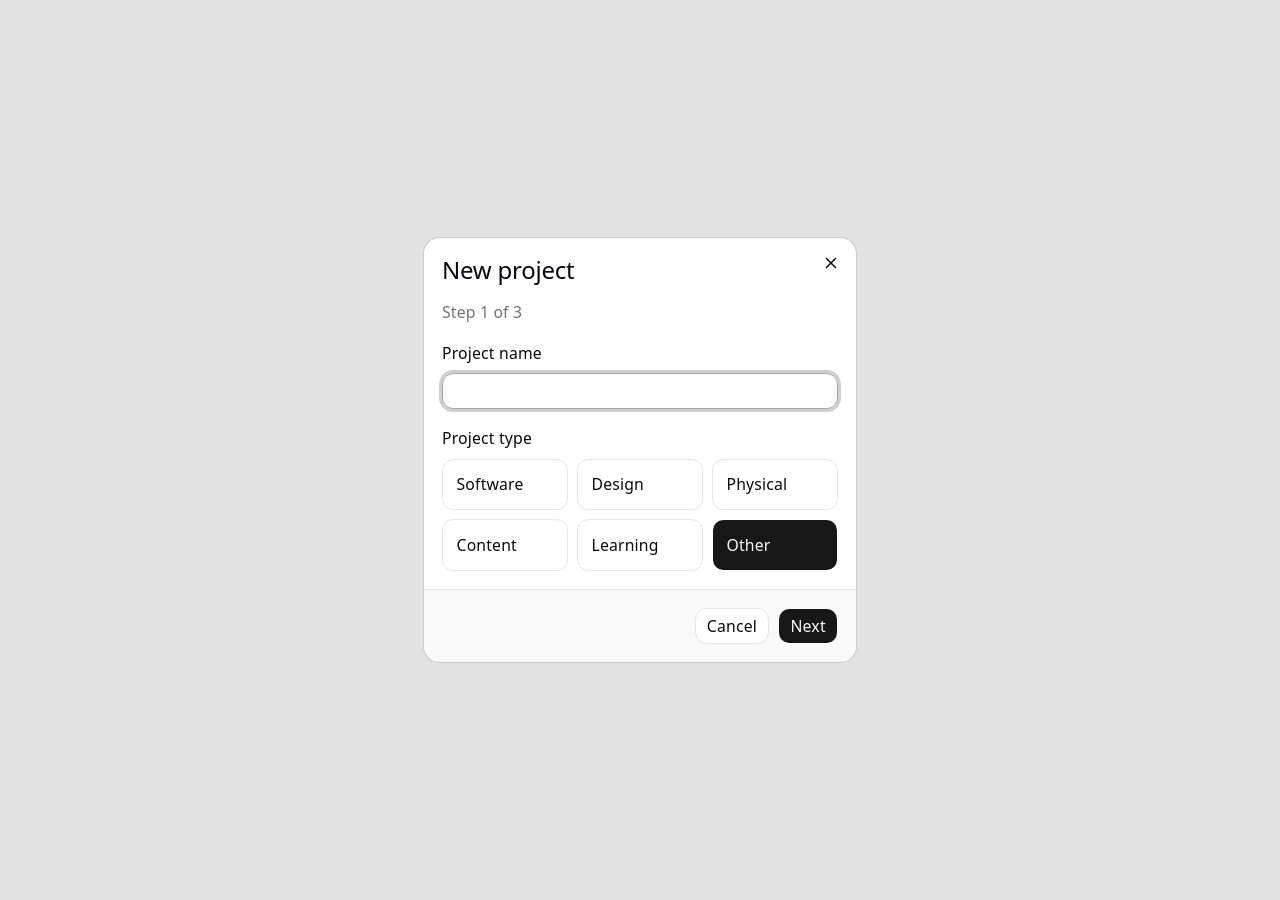
CreateProjectModal › supports back navigation between steps
The width and height of the screenshot is (1280, 900).
Type "Learning Plan" into the field labelled "Project name" at (640, 391), box [442,373,838,409]
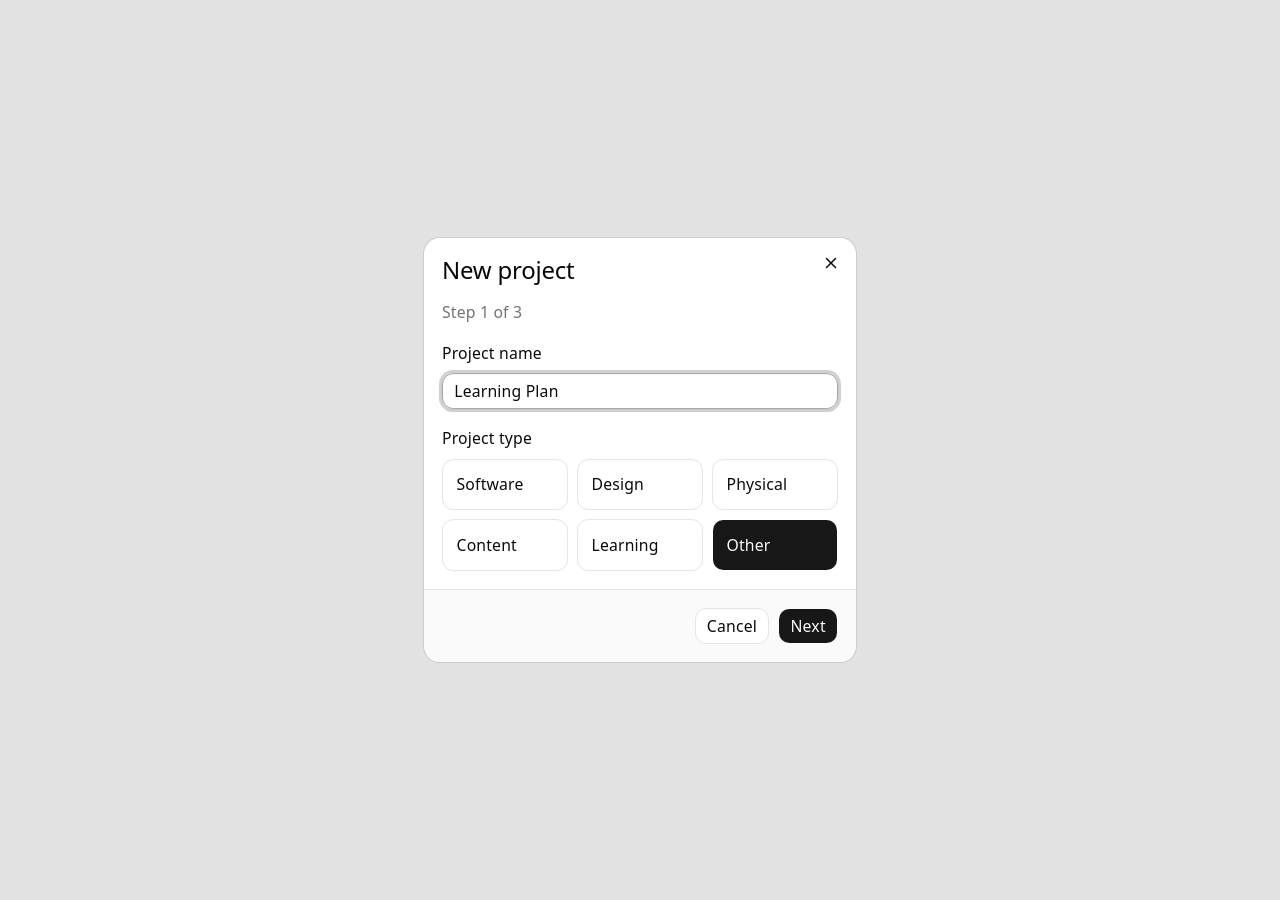
Click the button "Learning" at (640, 545), box [577,519,703,571]
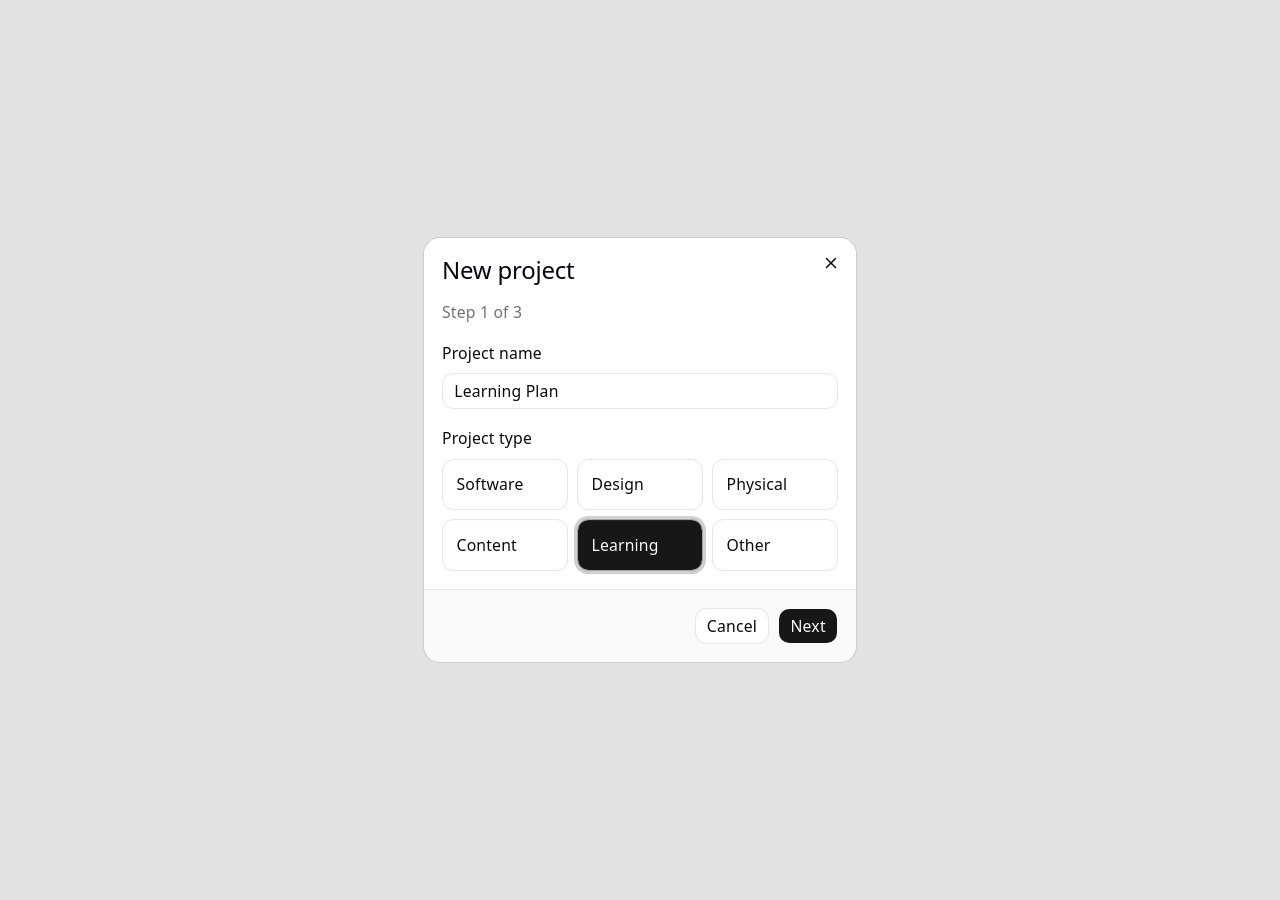
Click the button "Next" at (808, 626), box [778,608,838,644]
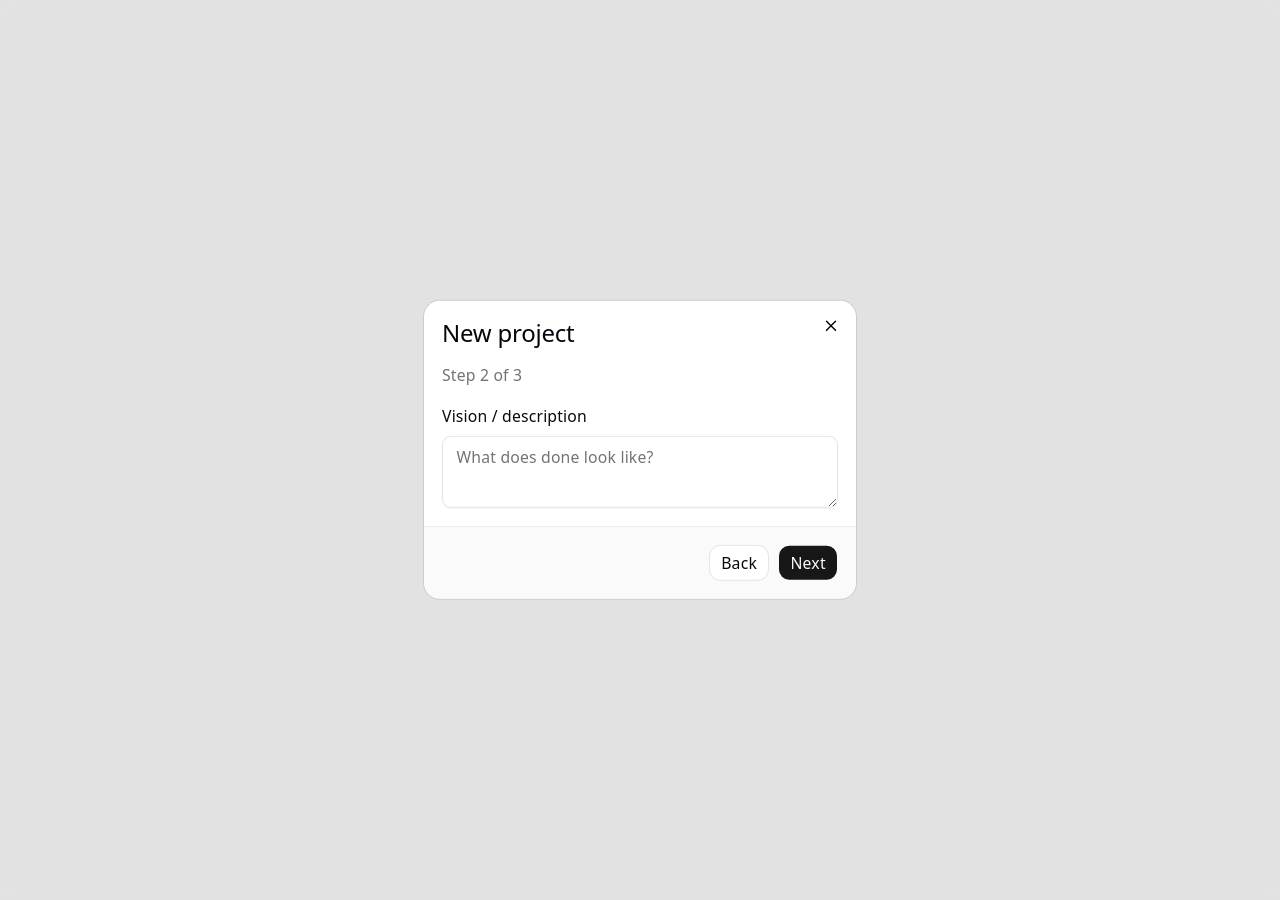
Check: the text box labelled "Vision / description" is shown, box [442,436,838,508]
Click the button "Back" at (739, 563), box [709,545,769,581]
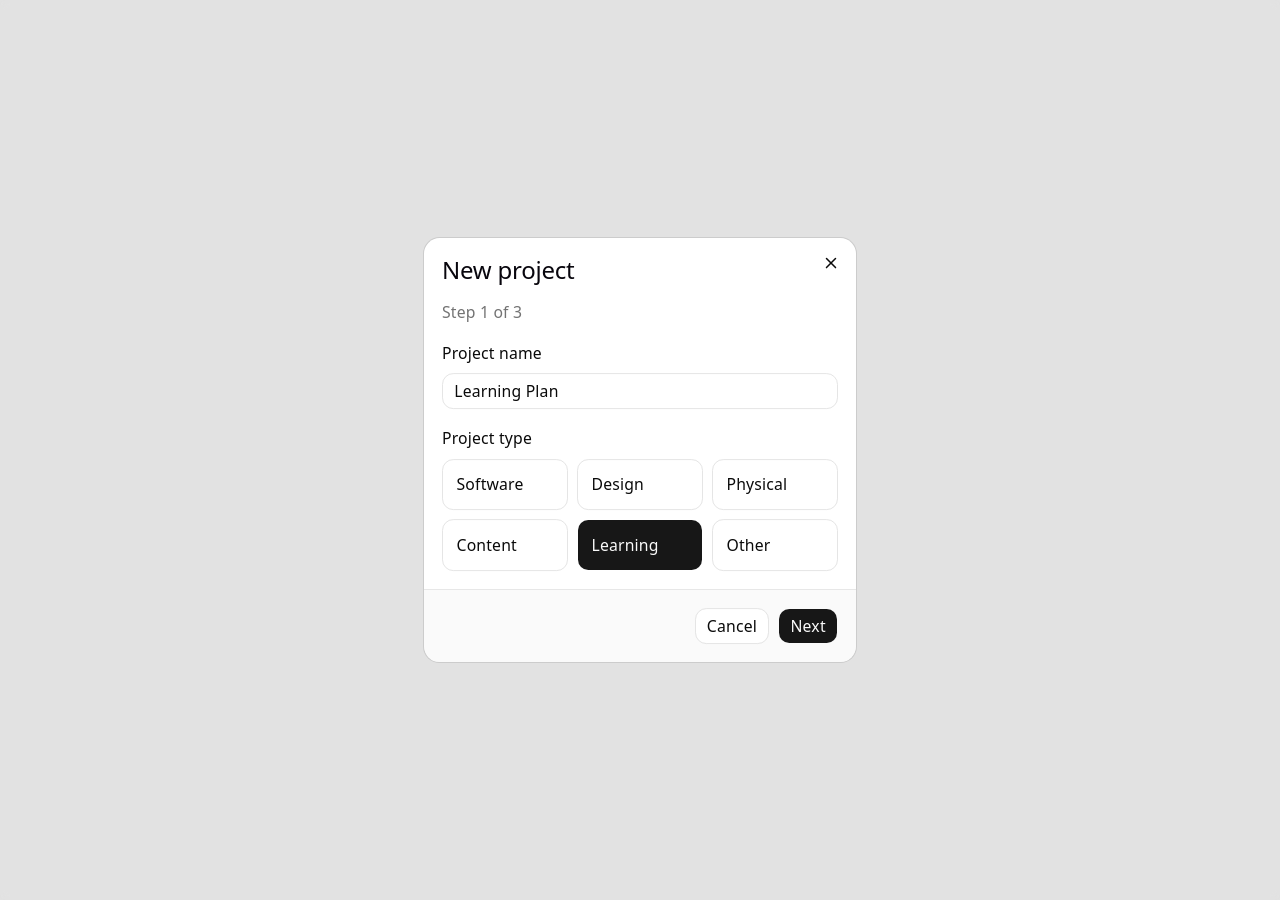
Check: the field labelled "Project name" holds "Learning Plan", box [442,373,838,409]
